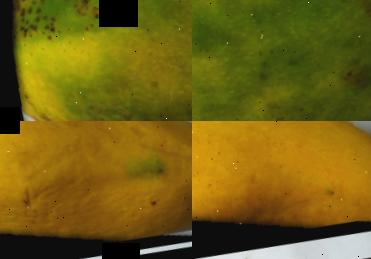PartiallyRipe: (0, 0, 192, 121), (192, 0, 371, 121)
Ripe: (0, 121, 192, 259), (192, 121, 371, 259)
